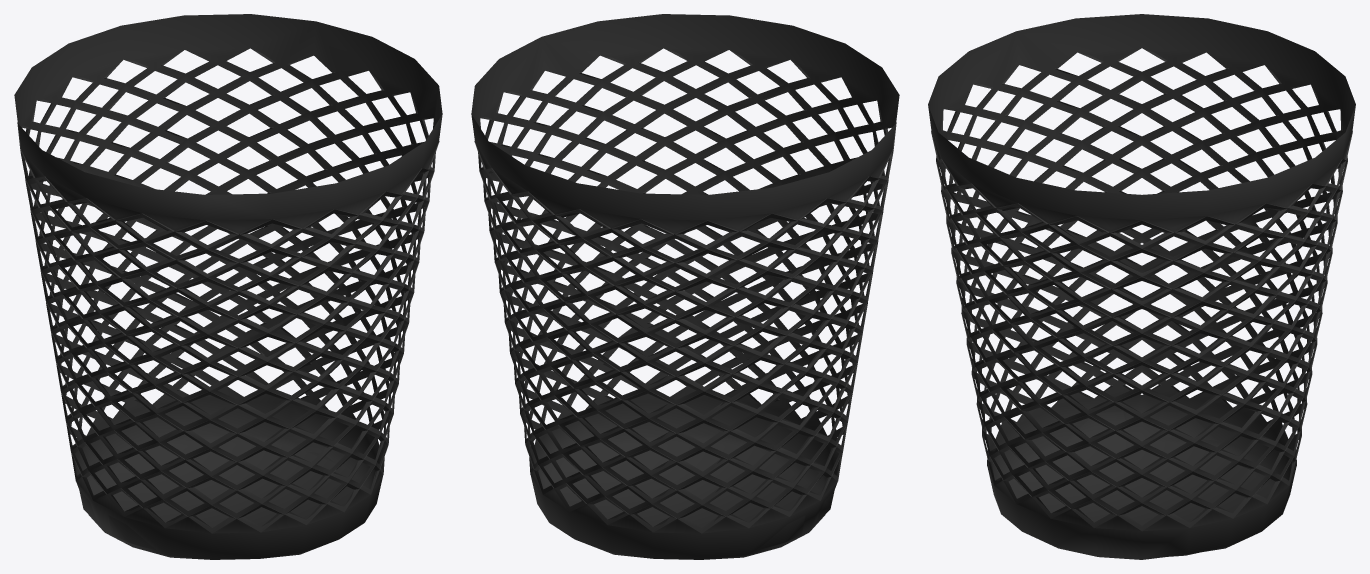
Rendered from paper_waste_bin.glb.
3 views of the same model, side by side, from view 1: azimuth 30°, elevation 25°; view 2: azimuth 150°, elevation 25°; view 3: azimuth 270°, elevation 25° (orthographic).
Parts seen in each view (by area): view 1: pCylinder4; view 2: pCylinder4; view 3: pCylinder4.
Boxes of the visible parts, x1,y1,x2,y2 form: pCylinder4: [14, 14, 442, 559]; pCylinder4: [471, 14, 899, 559]; pCylinder4: [928, 14, 1355, 559].
Bounding box in the file's own units: 52.86 × 53.9 × 52.86.
1 material, 1 textured.
